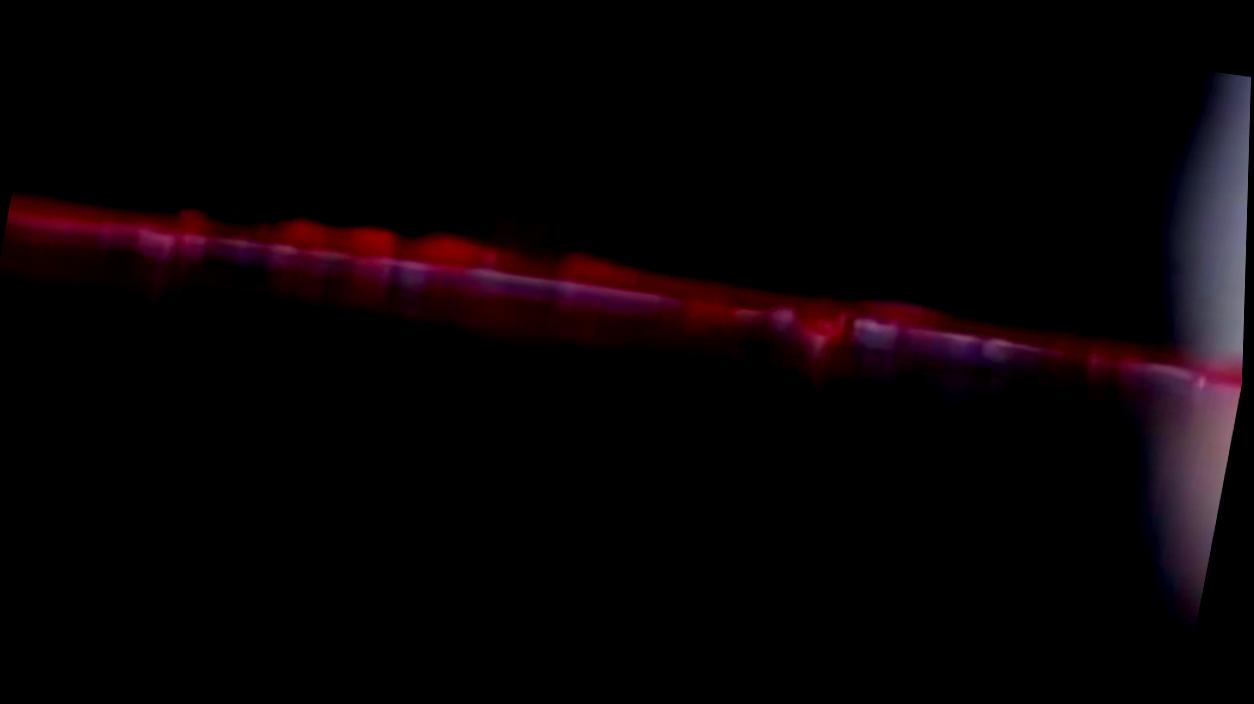Fire: (0, 190, 1245, 417)
